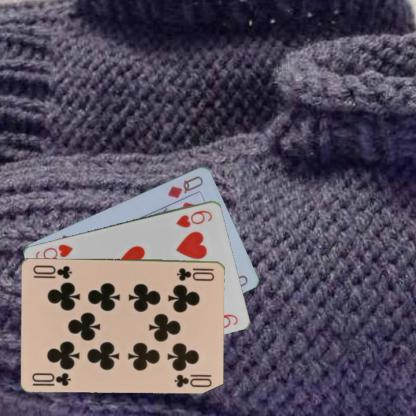10c: (30, 370, 72, 387), (174, 265, 215, 282)
6h: (173, 207, 214, 229)
Qd: (165, 173, 205, 200)
